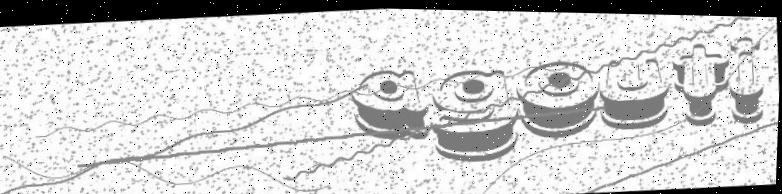a: (349, 64, 435, 145)
g: (429, 63, 523, 164)
i: (723, 31, 768, 122)
o: (512, 53, 605, 140)
t: (669, 38, 734, 126)
u: (597, 52, 675, 129)
